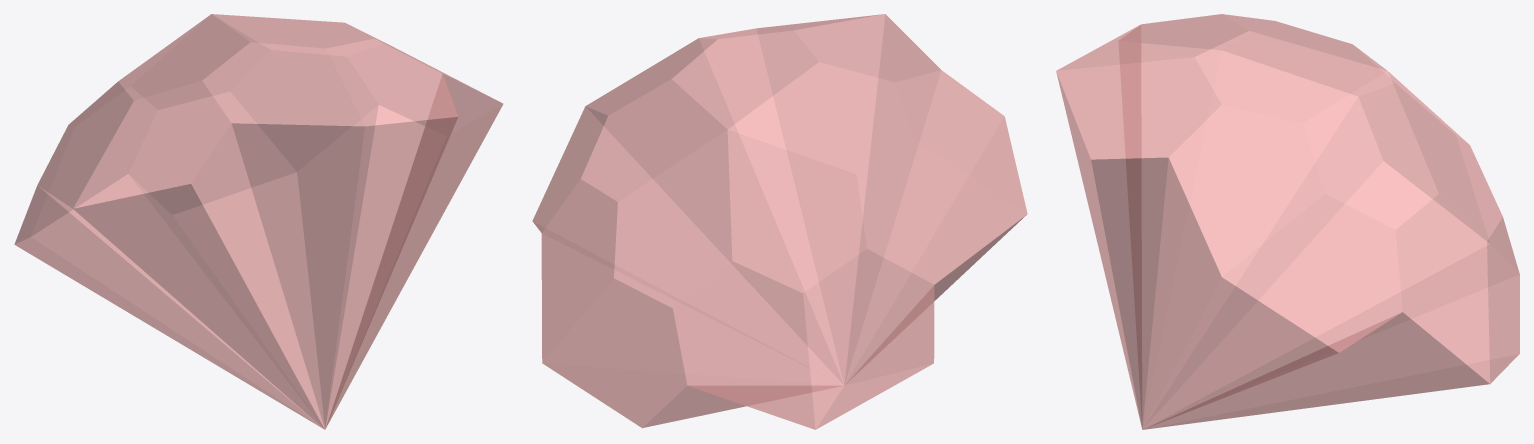
The model's file is PentagonalHexecontahedron.obj.
3 renders of one model, left to right at view 1: azimuth 30°, elevation 25°; view 2: azimuth 150°, elevation 25°; view 3: azimuth 270°, elevation 25°, orthographic. The views are drawn at different scales.
Bounding box in the file's own units: 3.78 × 3 × 3.26.
